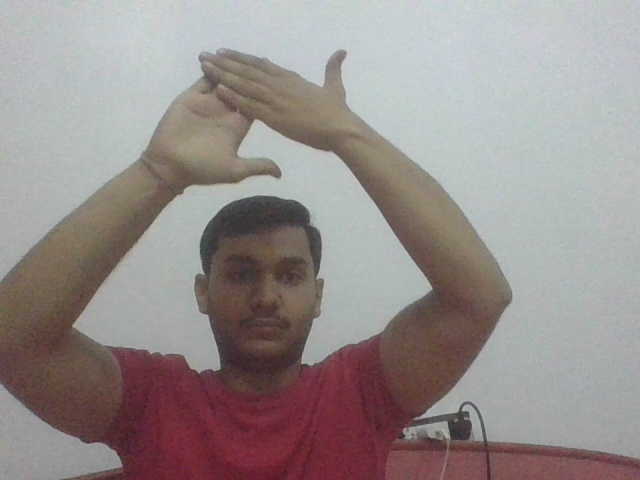H: (146, 41, 353, 188)
